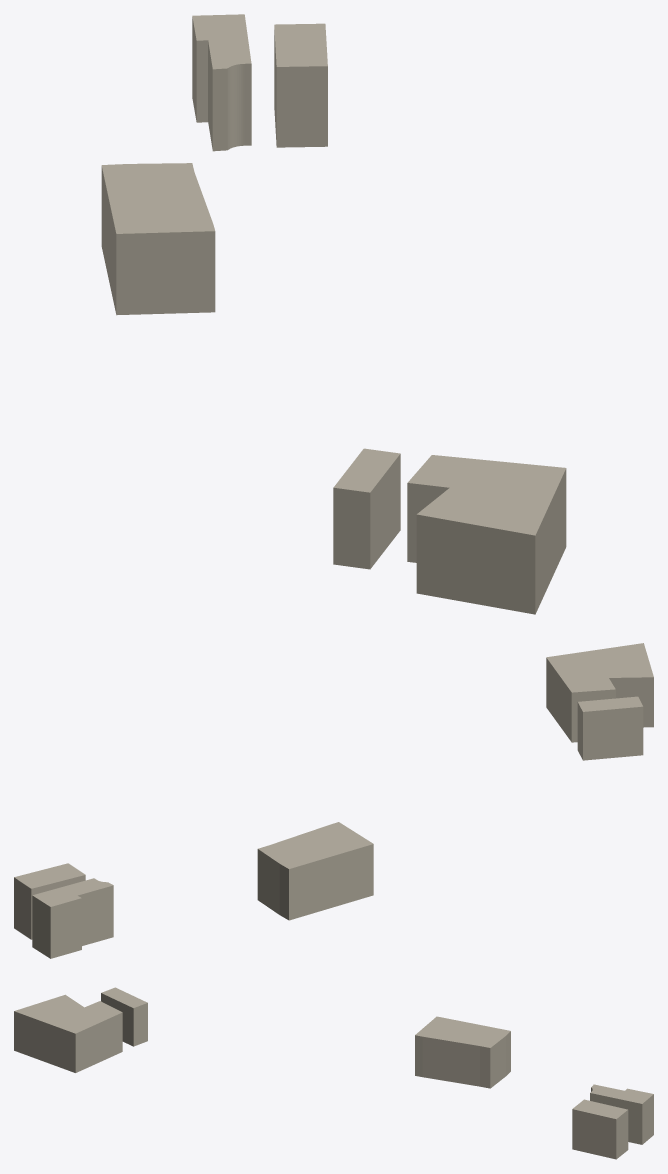
Rendered from bormla_65_31_collision.glb.
3 renders of one model, top to bottom at view 1: azimuth 30°, elevation 25°; view 2: azimuth 150°, elevation 25°; view 3: azimuth 270°, elevation 25°, orthographic. The views are drawn at different scales.
Parts seen in each view (by area): view 1: geometry_0; view 2: geometry_0; view 3: geometry_0.
Boxes of the visible parts, x1,y1,x2,y2 form: geometry_0: (101,14,566,614); geometry_0: (14,643,653,958); geometry_0: (14,987,653,1159).
Size of the model in its own units: 70.94 by 14.48 by 159.
